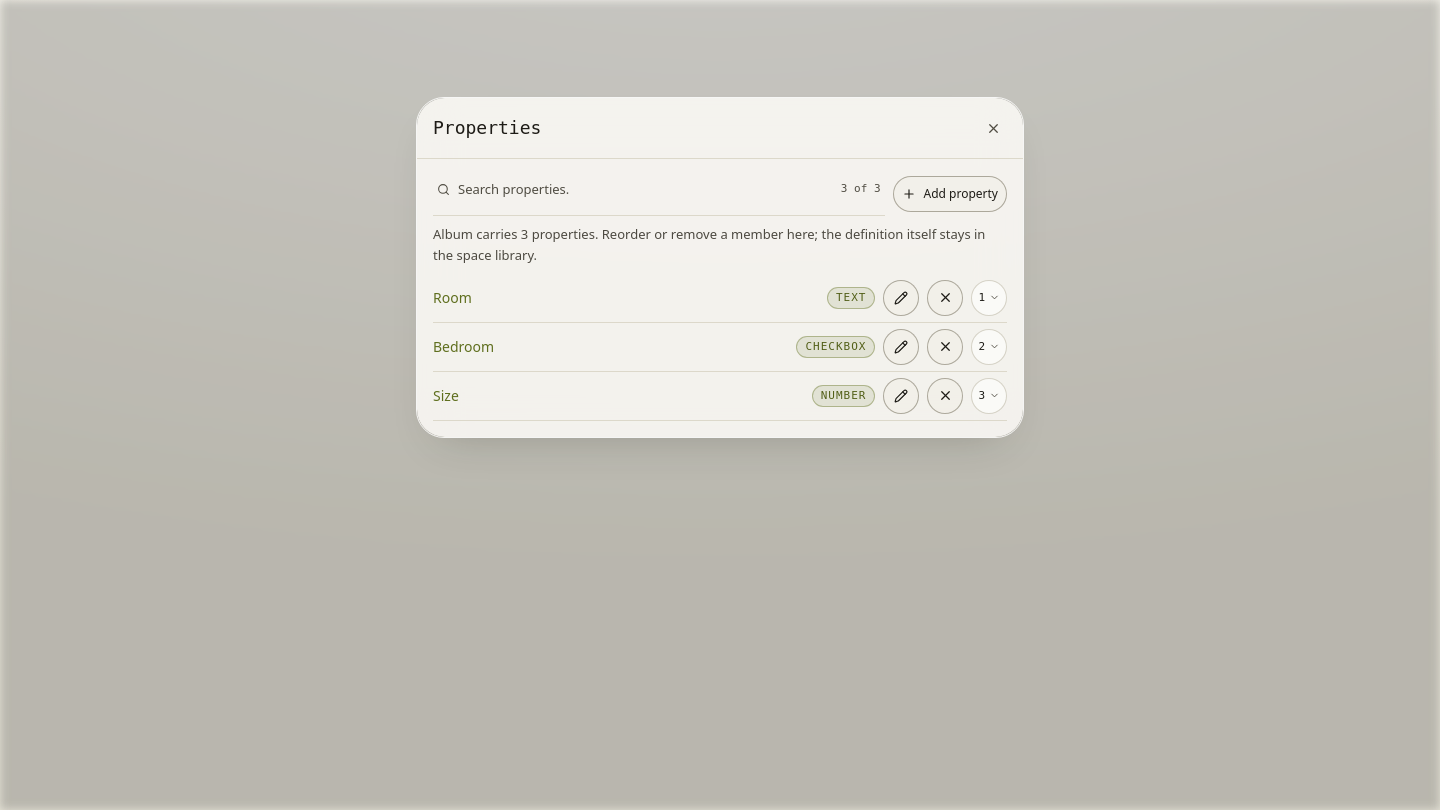
ManageProperties › removes a member from the type and shows the server's refusal in place
This screenshot has width=1440, height=810.
Click the button named "Remove Bedroom from this type". click: [945, 347]
box: [927,329,963,365]
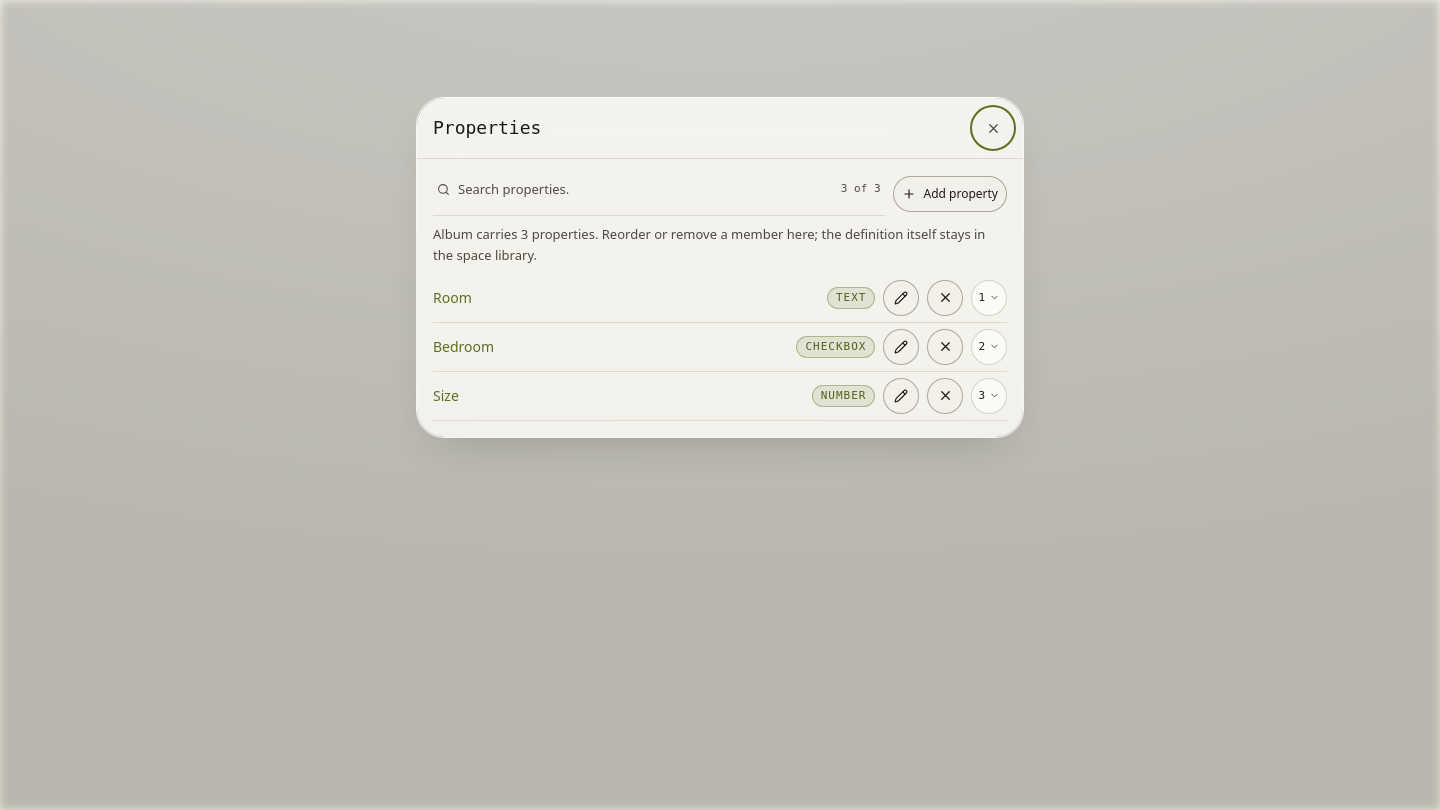
Click the button named "Remove Room from this type". click: [945, 298]
box: [927,280,963,316]
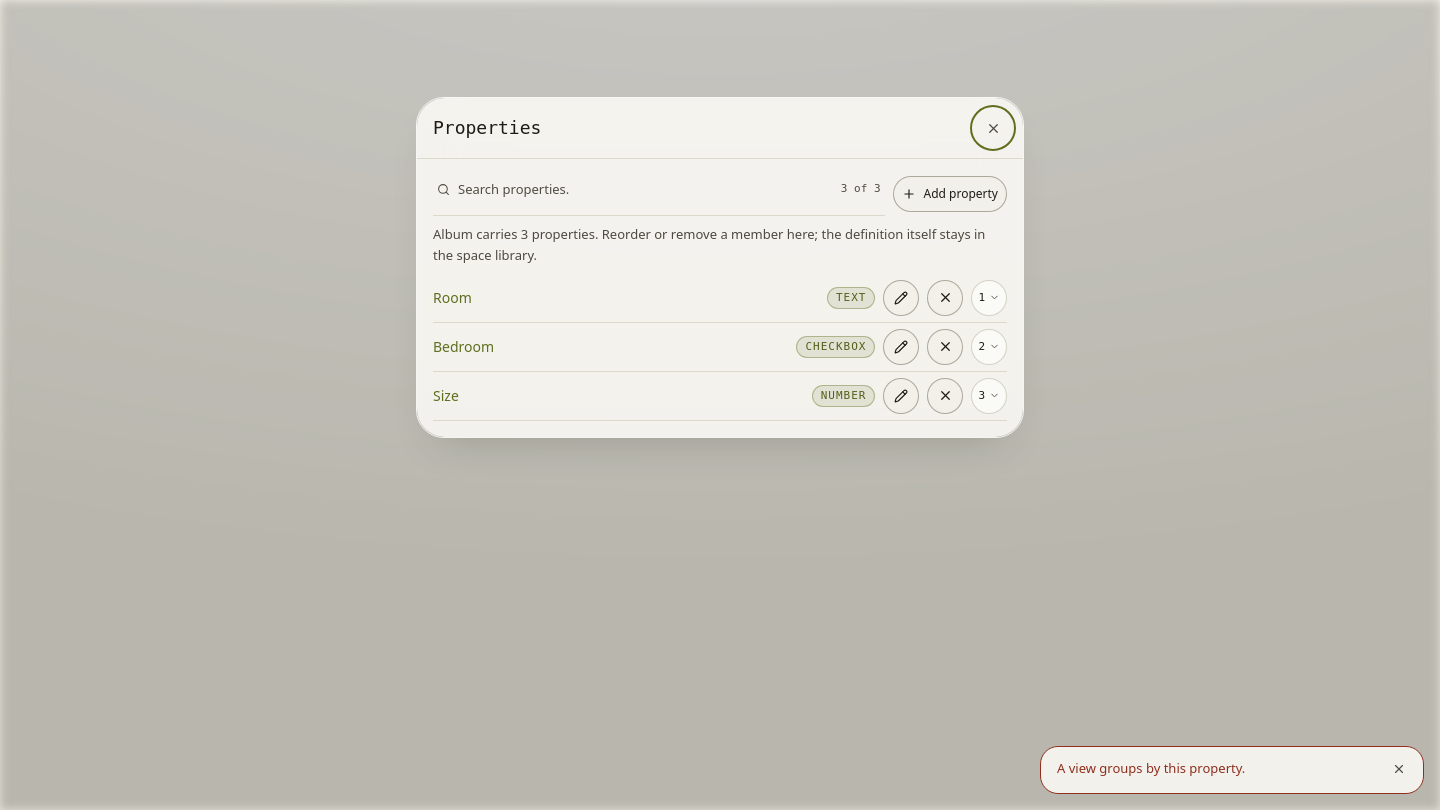
Result: the text "A view groups by this property." is shown at [1057,759,1245,777]
